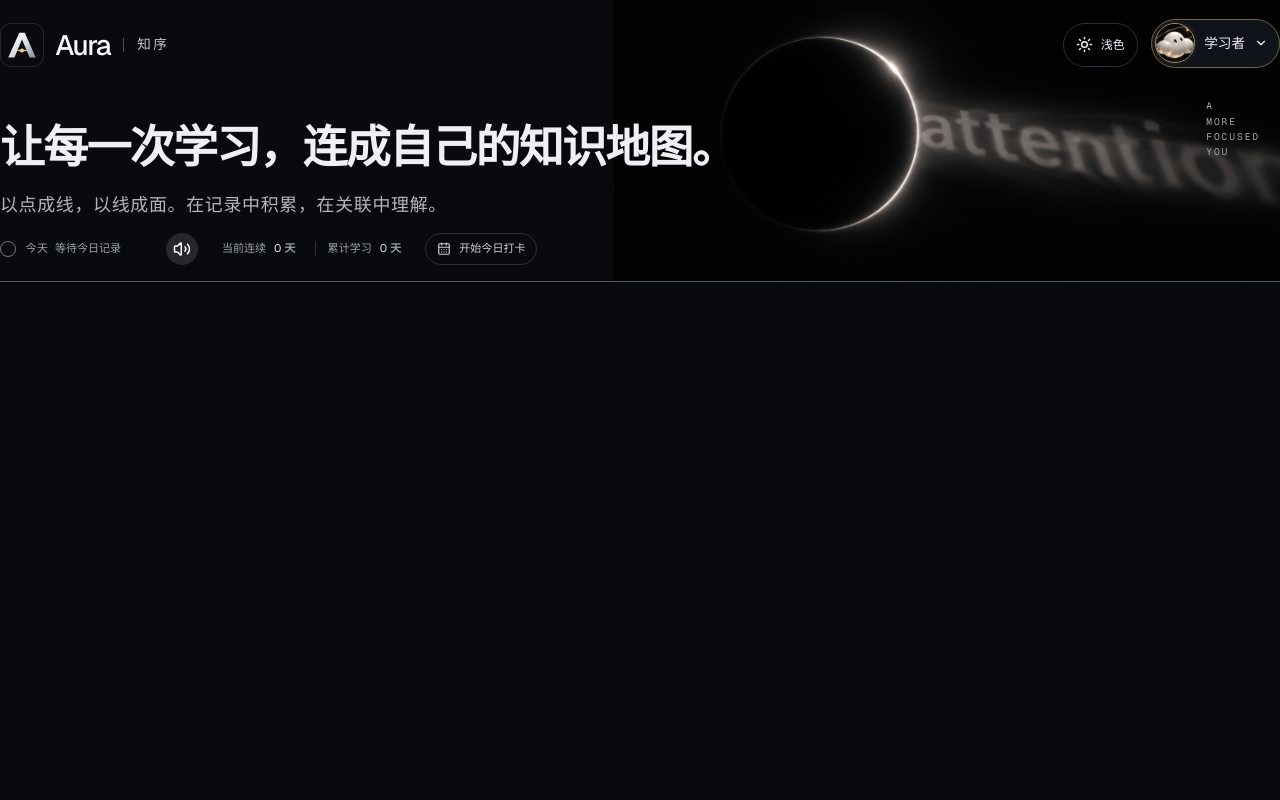
Test: Aura persona selection preserves the five numeric avatar keys › preserves an existing key 1 as 白日梦家 without rewriting a profile
Click the button with aria-label "打开账户菜单": (1216, 43) [1151,19,1279,68]
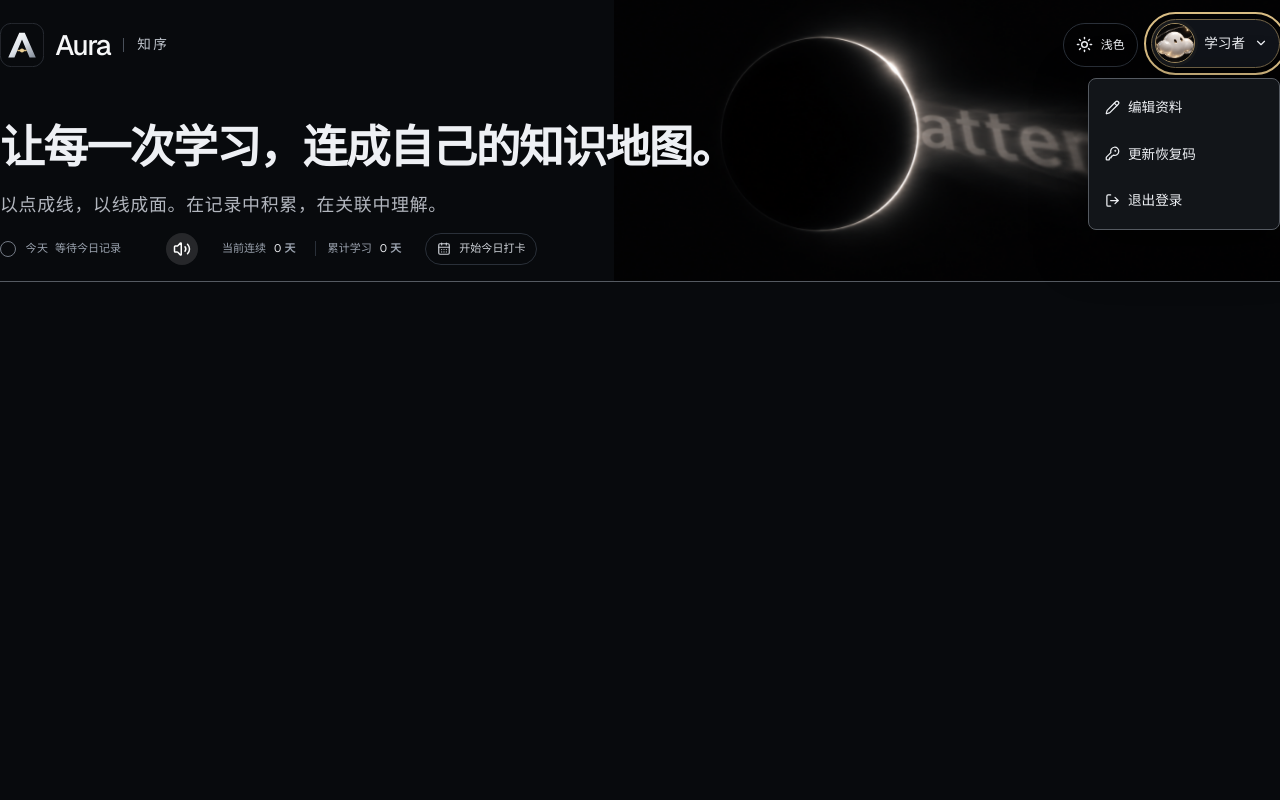
Click the menu item "编辑资料": (1184, 107) [1096,86,1272,129]
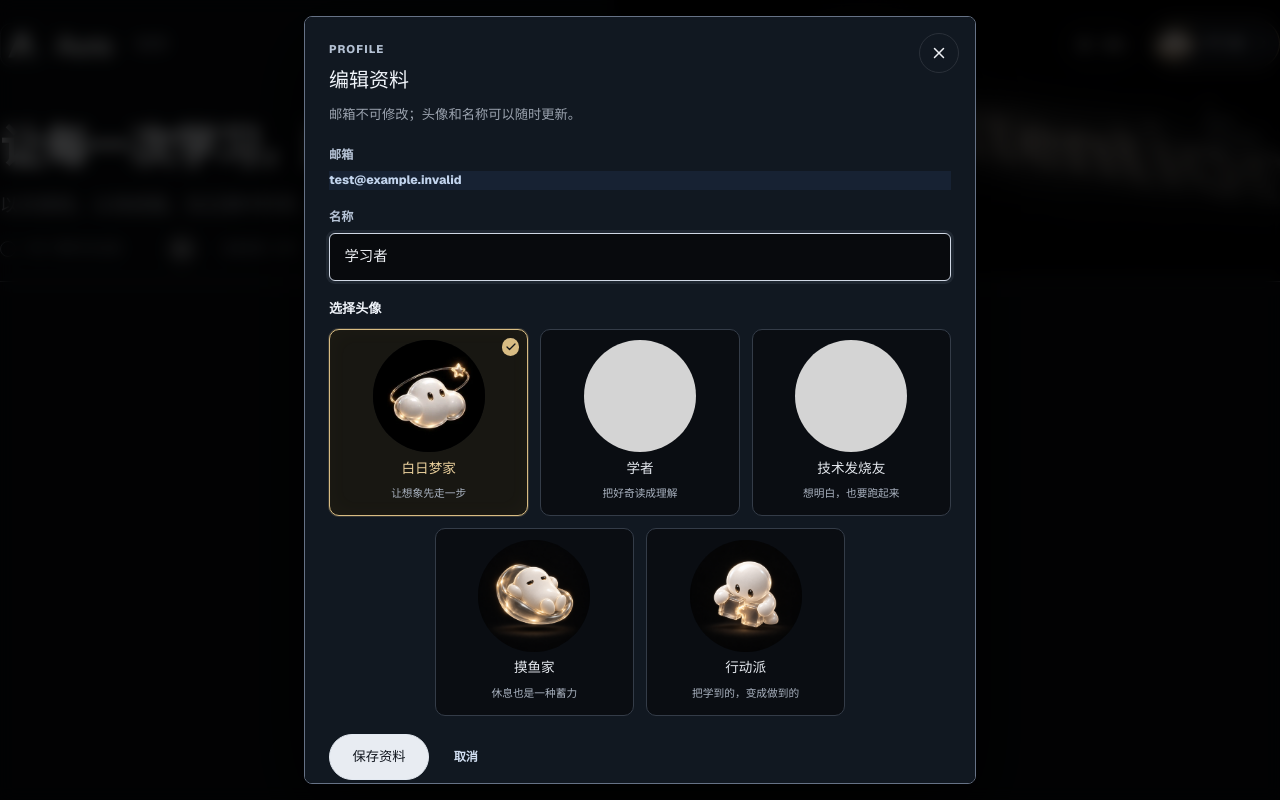
Result: the radio button labelled "白日梦家" is checked at [329,329,528,516]
Click the button "保存资料": (379, 757) [329,734,429,780]
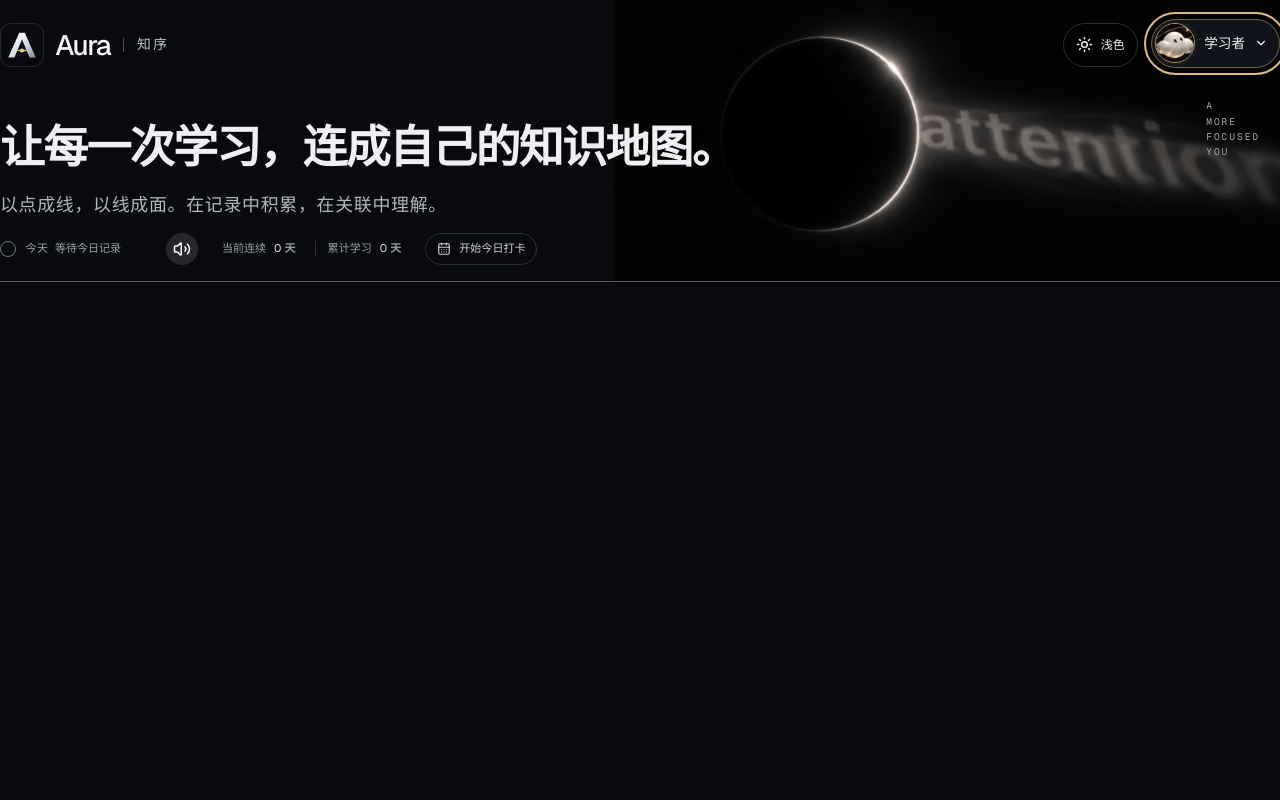
Result: the heading "编辑资料" is gone
